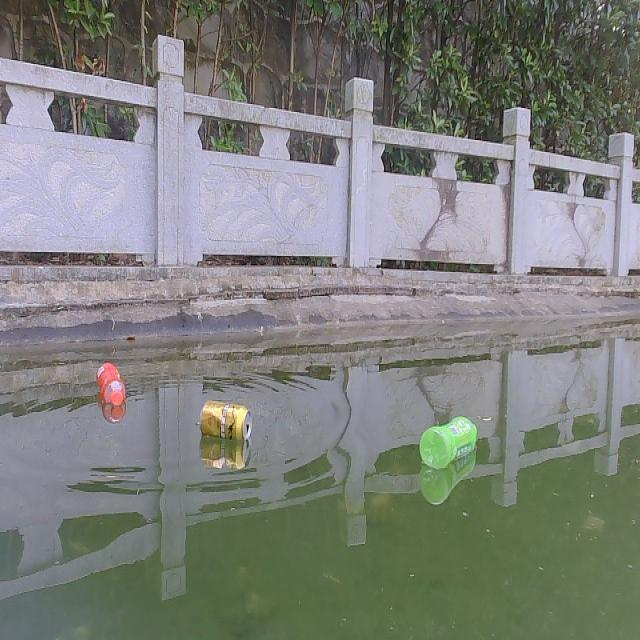Bottle: (418, 415, 476, 468), (198, 397, 252, 443), (94, 359, 124, 404)
